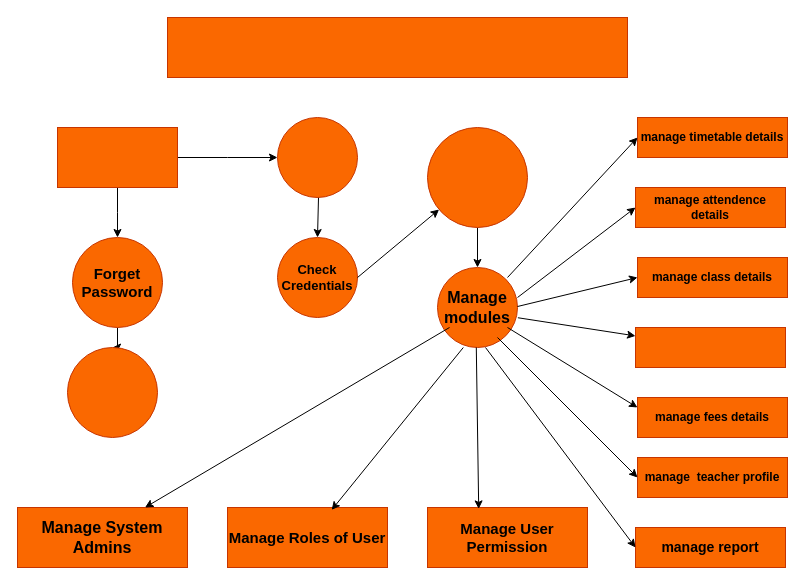
Some shapes in this 805 by 585 pixel diagram are drawn without their labels. The centre of each missing label's shape, as x and y in pixels:
Admin: point (117, 157)
Check Roles of Access: point (477, 177)
Login to System: point (317, 157)
manage student details: point (710, 347)
send email to user: point (112, 392)
Student Information System: point (397, 47)
